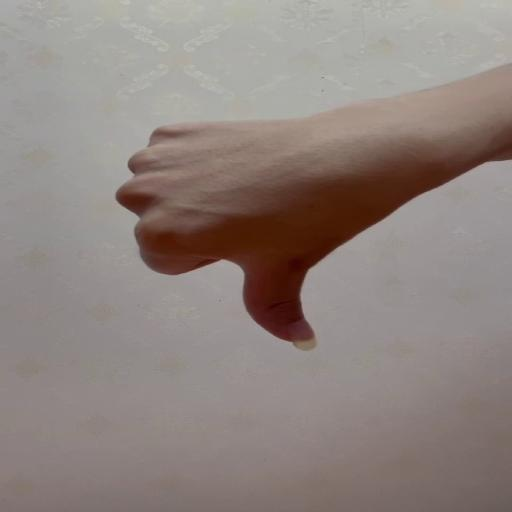thumbs_down: (114, 120, 407, 353)
